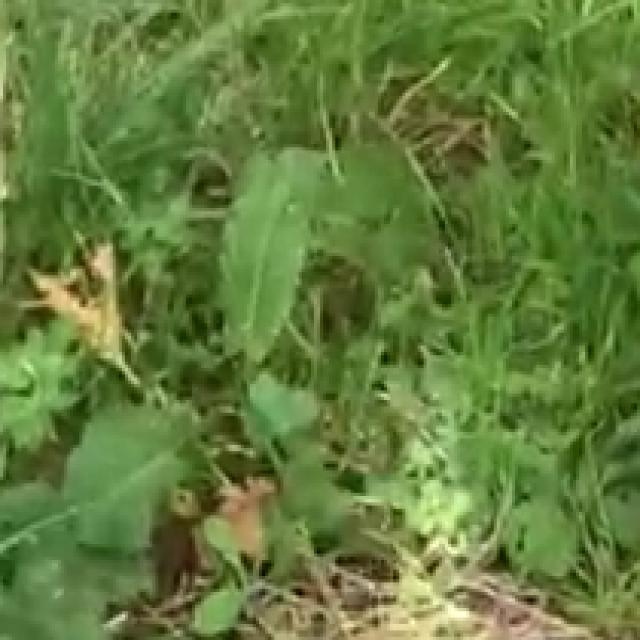organic waste: (207, 67, 442, 349), (12, 371, 253, 640)
